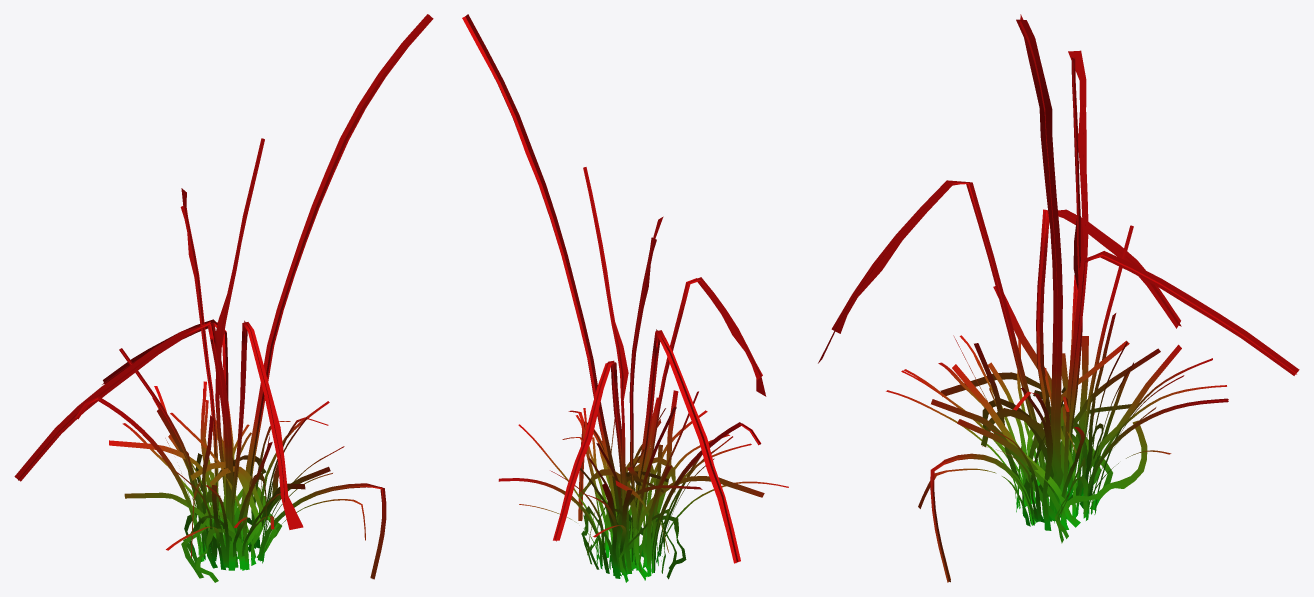
The model's file is smdrailr_Var2_LOD0.fbx.
3 views of the same model, side by side, from view 1: azimuth 30°, elevation 25°; view 2: azimuth 150°, elevation 25°; view 3: azimuth 270°, elevation 25° (orthographic). The views are drawn at different scales.
Visible parts, largest first — view 1: _fa16_Var2_LOD0; view 2: _fa16_Var2_LOD0; view 3: _fa16_Var2_LOD0.
Boxes of the visible parts, x1,y1,x2,y2 form: _fa16_Var2_LOD0: [14, 14, 433, 582]; _fa16_Var2_LOD0: [462, 14, 788, 582]; _fa16_Var2_LOD0: [818, 14, 1299, 582].
Size of the model in its own units: 51.72 by 73.55 by 52.08.
